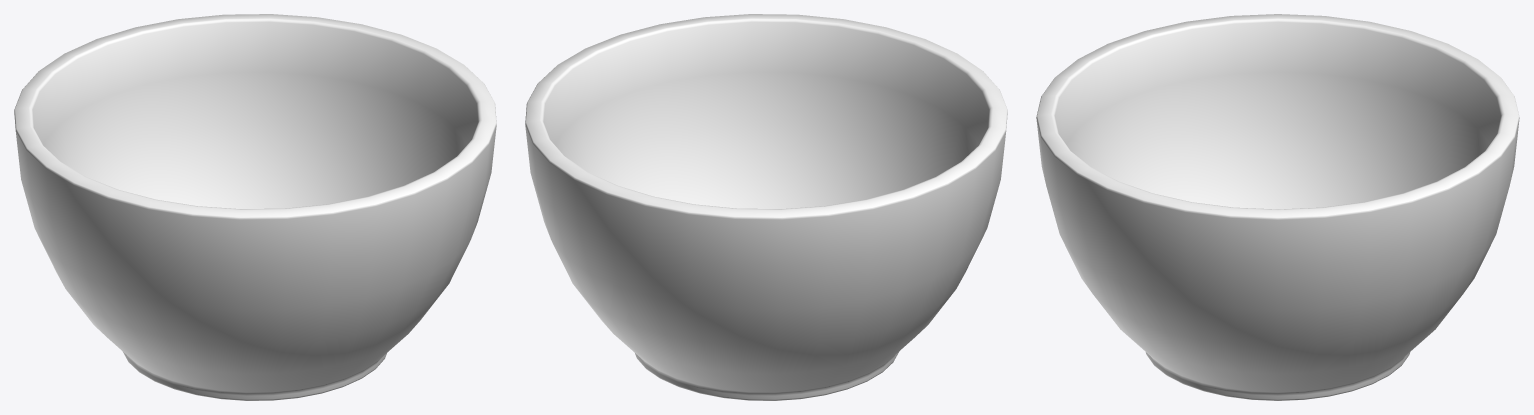
File: Bowl.fbx
The picture shows the model from 3 angles, left to right: view 1: azimuth 30°, elevation 25°; view 2: azimuth 150°, elevation 25°; view 3: azimuth 270°, elevation 25°; orthographic projection.
Visible parts, largest first — view 1: R_Bowl; view 2: R_Bowl; view 3: R_Bowl.
Part boxes in pixels (x1,y1,x2,y2): R_Bowl: (14, 14, 496, 400); R_Bowl: (525, 14, 1007, 400); R_Bowl: (1036, 14, 1519, 400).
Bounding box in the file's own units: 4.88 × 2.57 × 4.88.
1 material, 1 textured.
